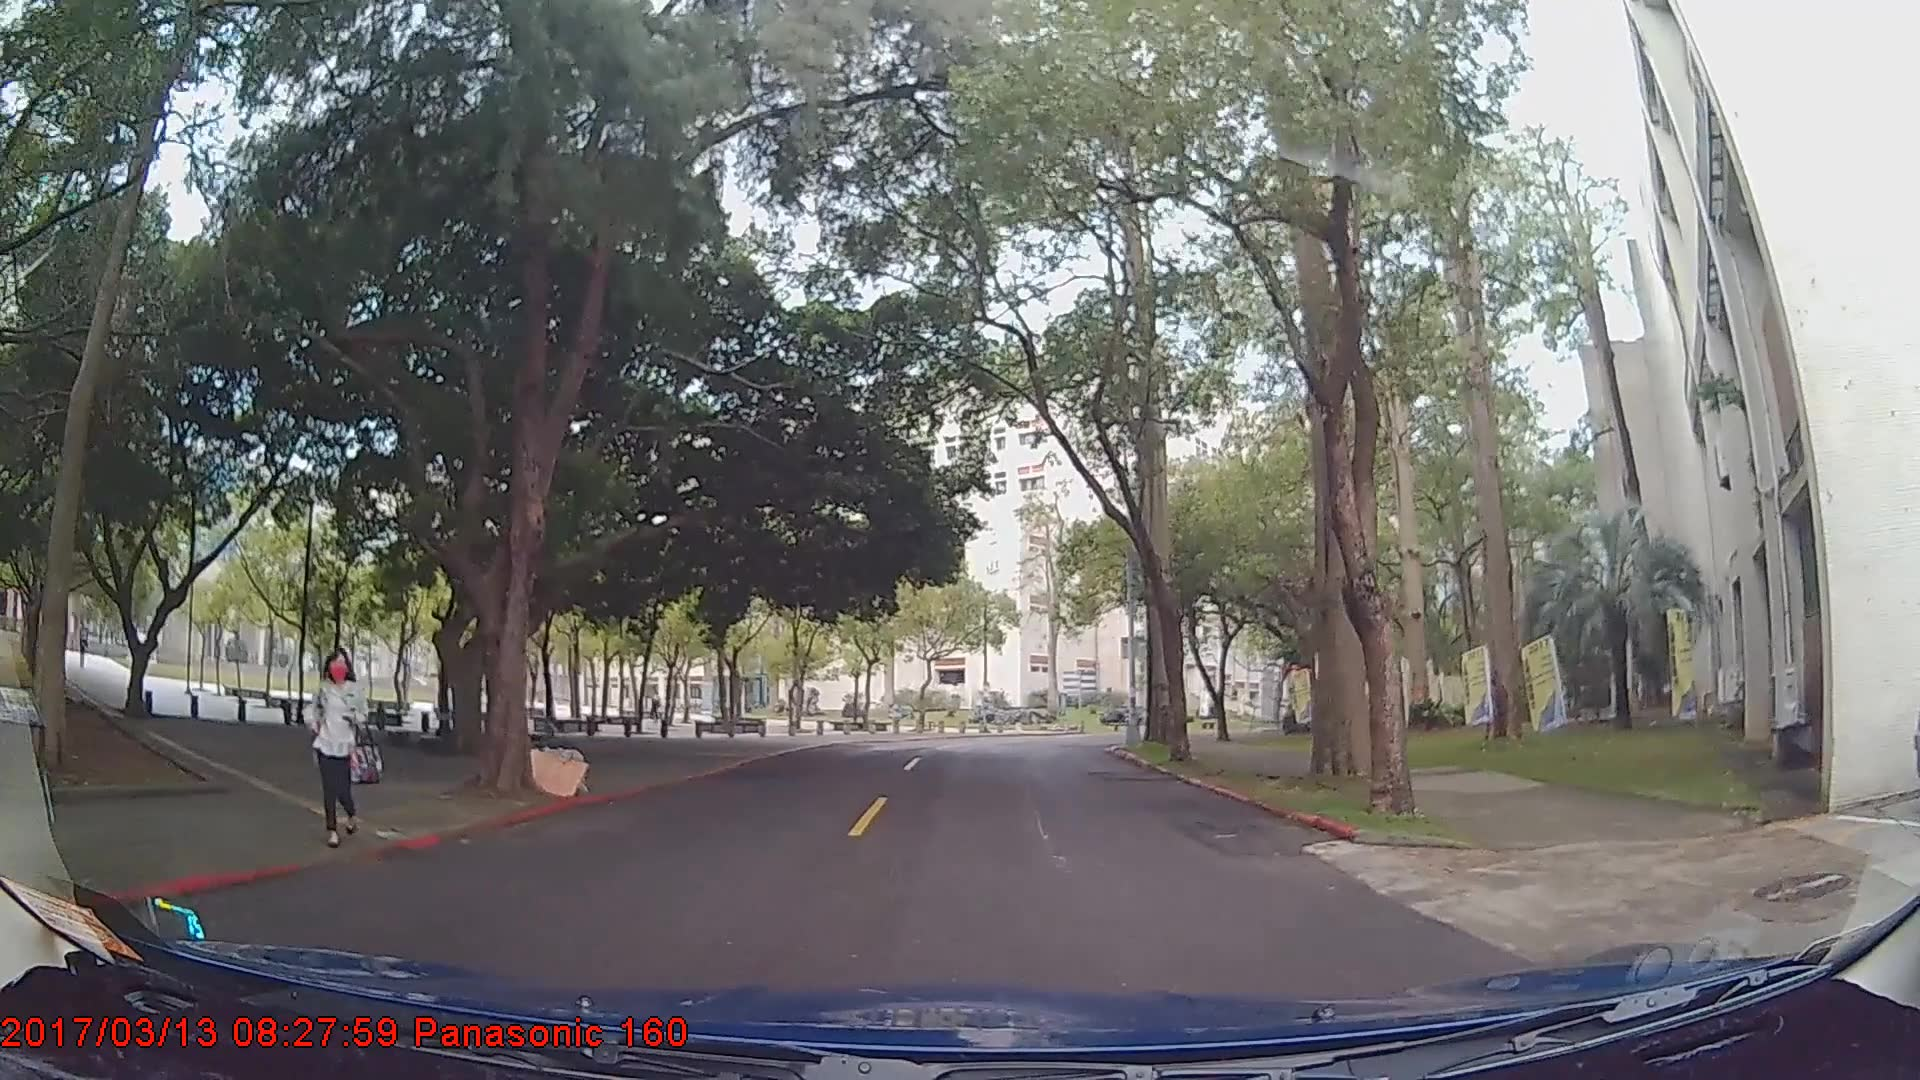pedestrian: (303, 640, 381, 846)
